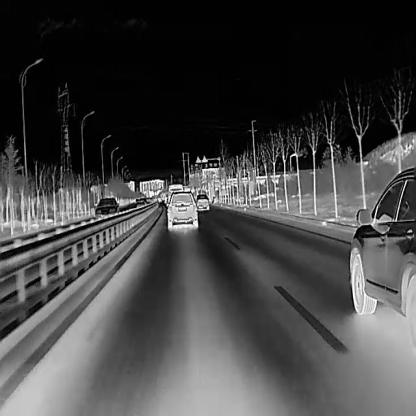bus: (168, 183, 183, 204)
car: (347, 163, 415, 344), (165, 190, 198, 230), (93, 196, 119, 227), (196, 192, 209, 210), (135, 198, 148, 210)
